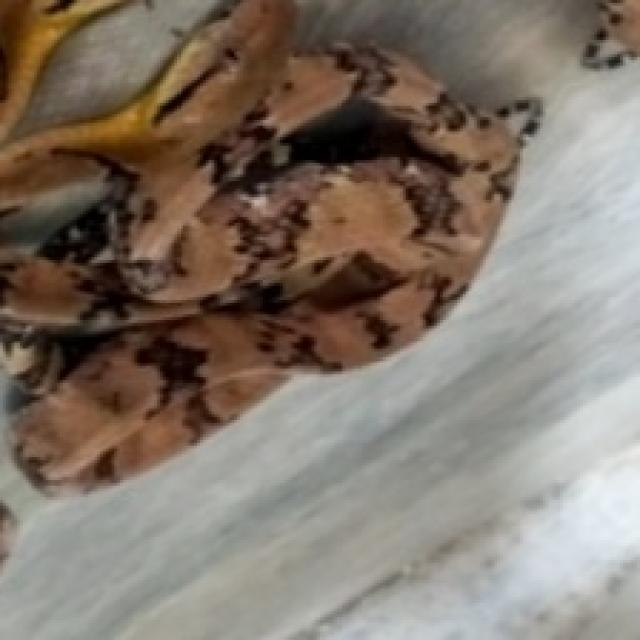dog-toothed cat snake: (0, 0, 534, 491)
